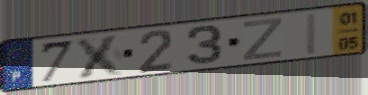2: (136, 27, 177, 75)
3: (183, 24, 226, 67)
7: (36, 39, 78, 84)
I: (303, 11, 320, 58)
X: (73, 32, 127, 81)
Z: (240, 16, 285, 63)
